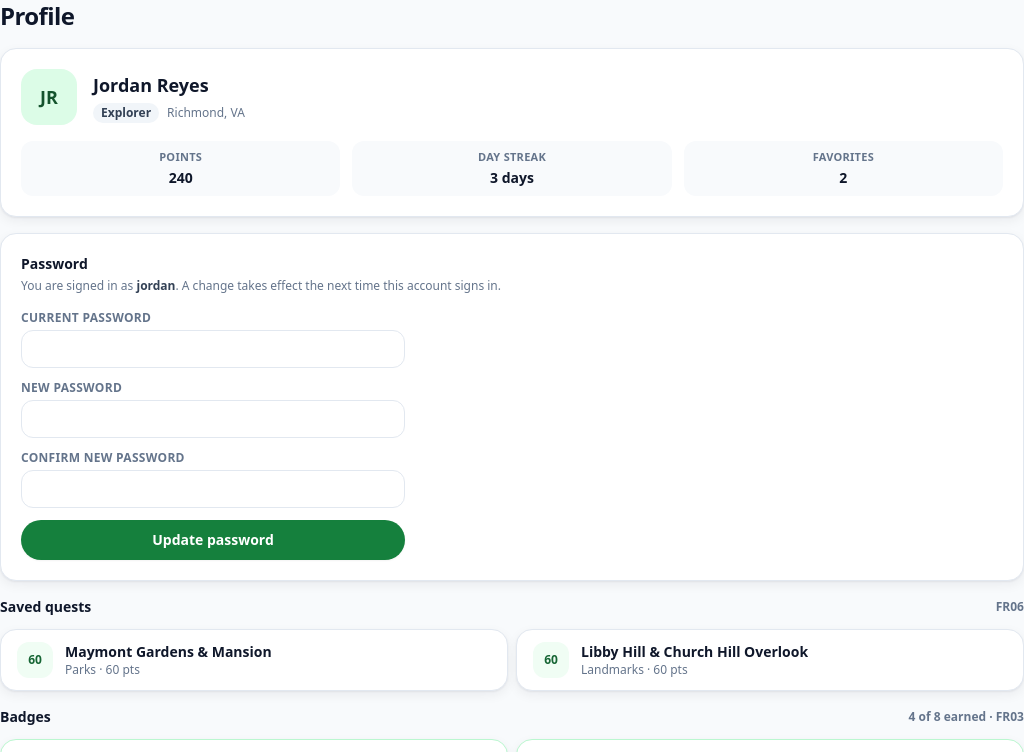
Test: ProfilePage — changing your own password › stores the new password and confirms it, without closing the session
Type "rvaquest" into the password field labelled "Current password".
click(213, 348); type("rvaquest")  # box [21,330,405,368]
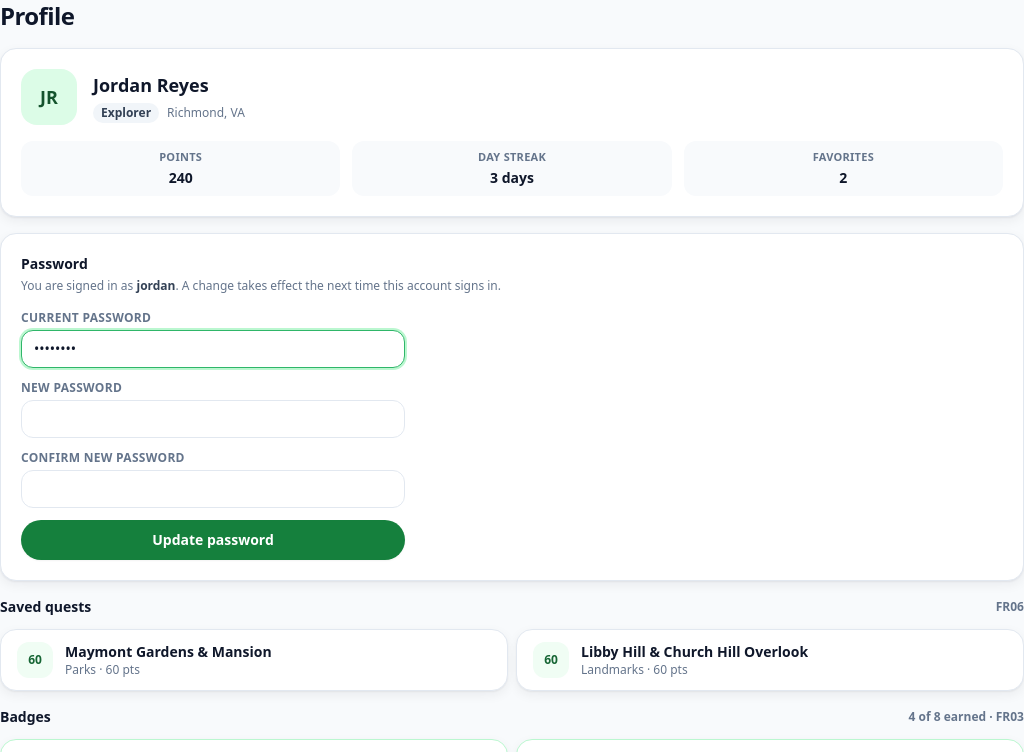
Type "new-rvaquest" into the password field labelled "New password".
click(213, 418); type("new-rvaquest")  # box [21,400,405,438]
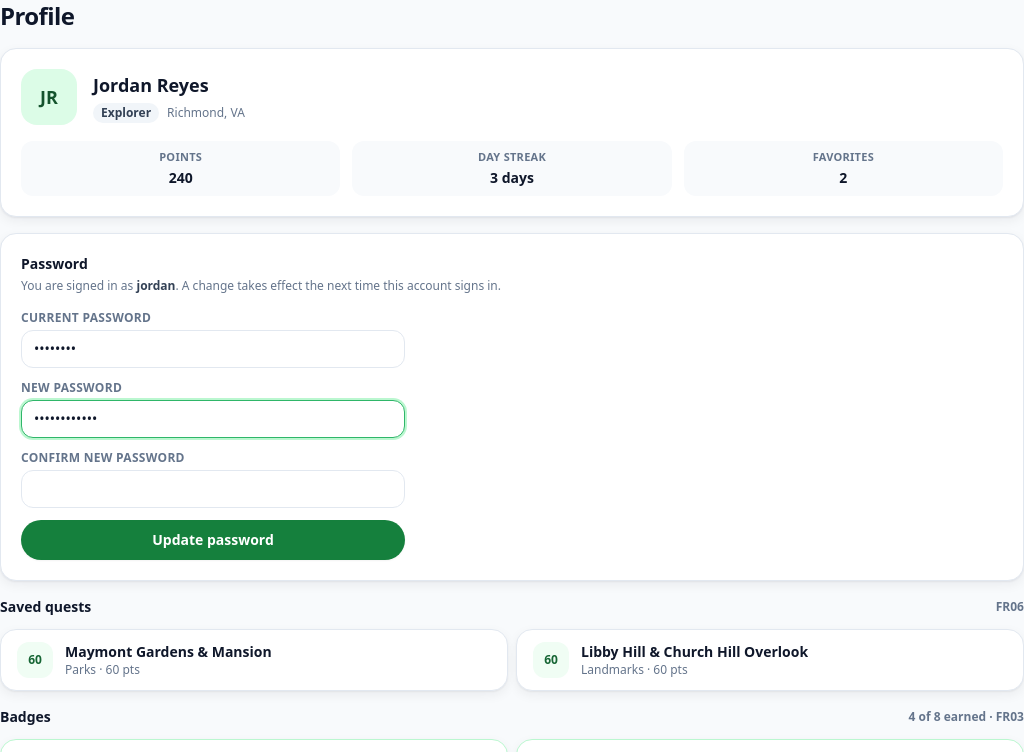
Type "new-rvaquest" into the password field labelled "Confirm new password".
click(213, 488); type("new-rvaquest")  # box [21,470,405,508]
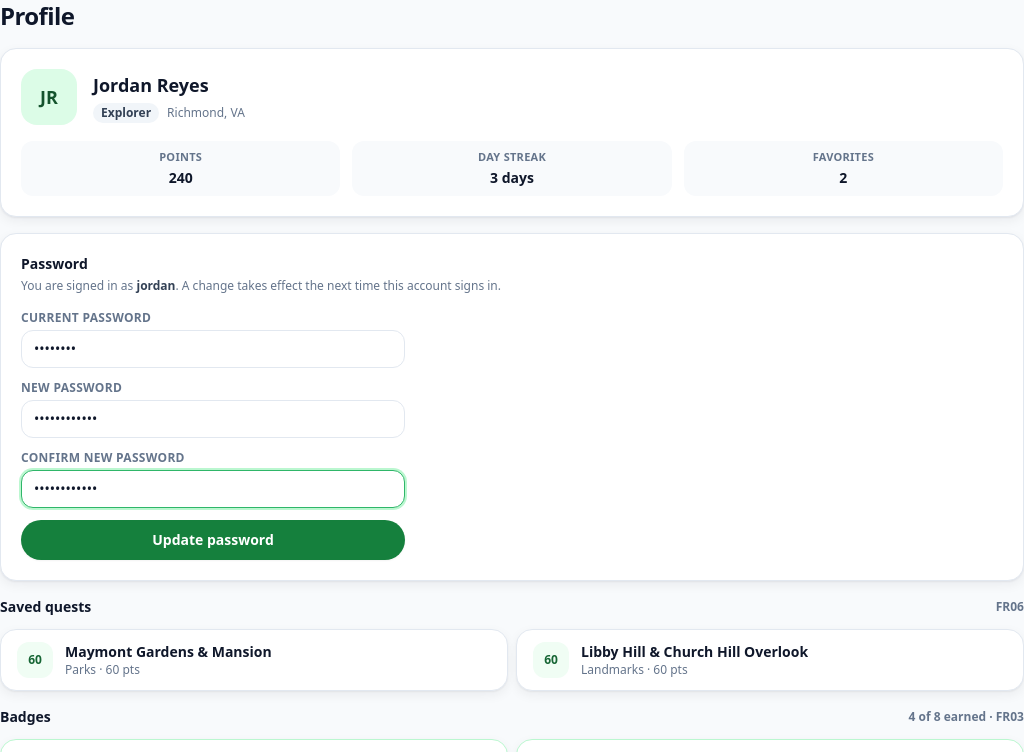
Click the button "Update password".
click(213, 540)  # box [21,520,405,560]
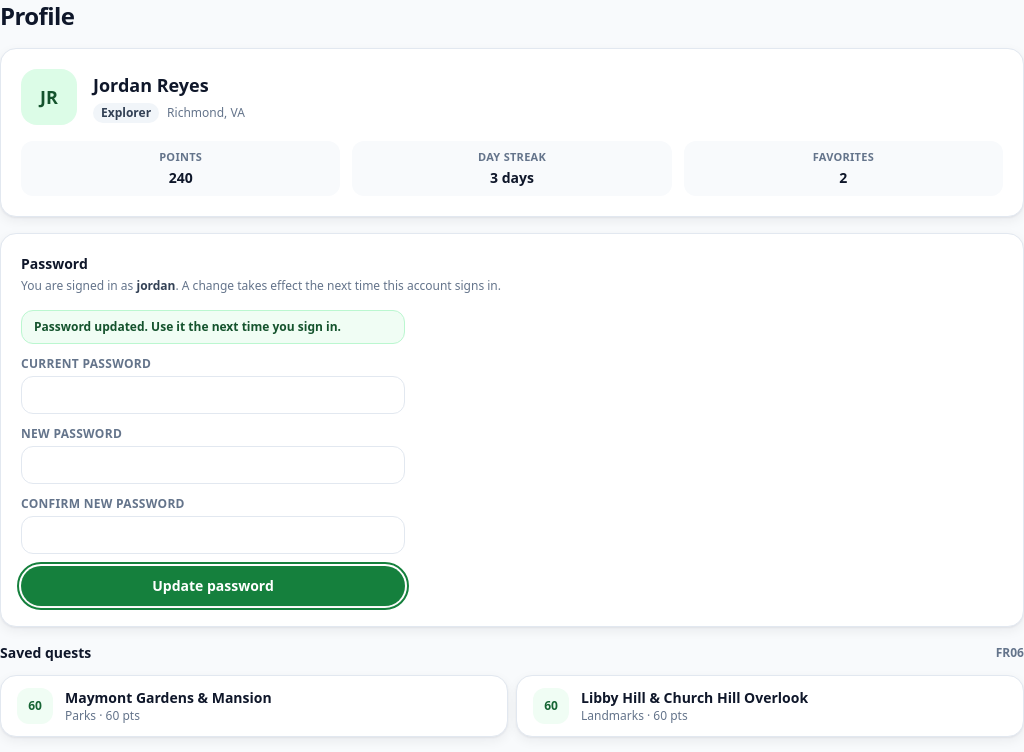
Expected: the message shows "Password updated", [34,318,341,334]
Expected: the password field labelled "Current password" is empty, [21,376,405,414]
Expected: the password field labelled "New password" is empty, [21,446,405,484]
